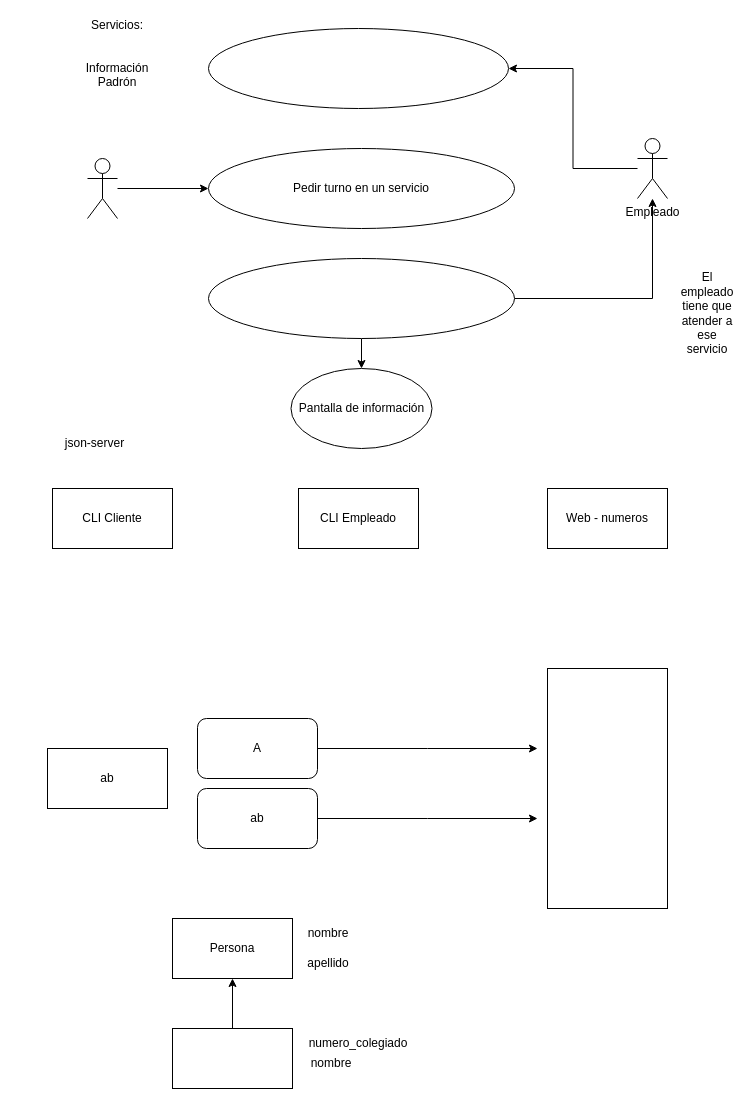
This 754x1106 diagram has some shape labels left out. Each missing label, with the box of its shape:
Cliente: (86, 158, 118, 218)
El empleado llama al siguiente cliente: (208, 258, 514, 338)
Login Empleado- atiende a uno o varios servicio: (208, 28, 508, 108)
Medico: (172, 1028, 292, 1088)
Suscriptor: (546, 668, 668, 908)
